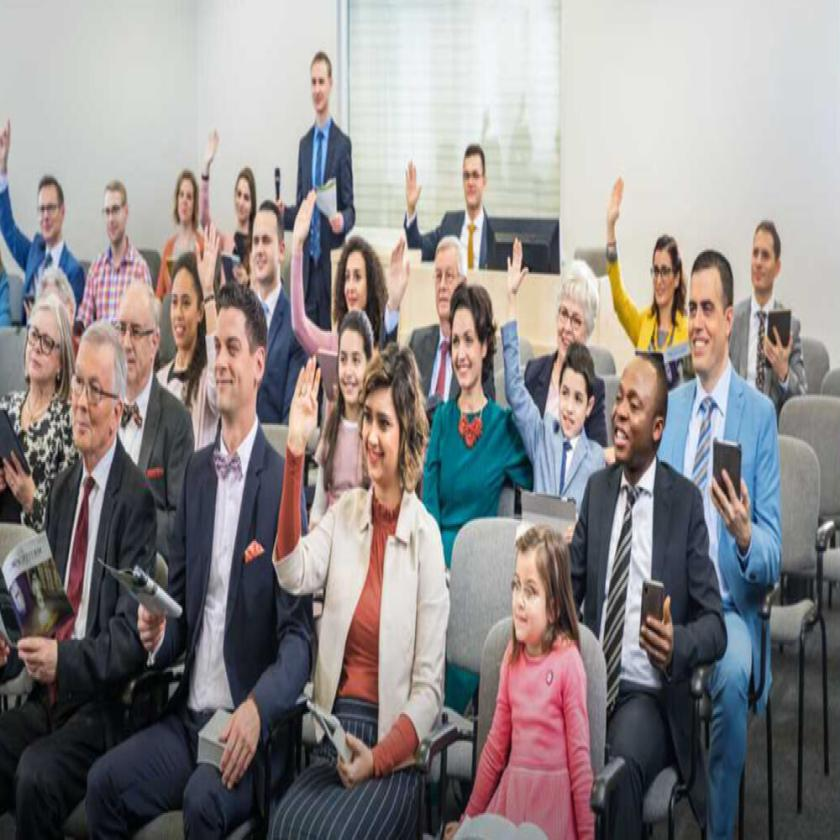Sin_casco: (365, 343, 418, 514), (211, 285, 267, 434), (70, 322, 128, 463), (613, 359, 670, 479), (687, 245, 733, 392), (509, 529, 558, 655), (448, 286, 497, 394), (116, 282, 160, 391), (23, 290, 70, 392), (167, 252, 206, 371), (554, 254, 596, 352), (334, 310, 372, 418), (428, 233, 465, 323), (560, 346, 596, 437), (747, 220, 784, 304), (647, 234, 682, 322), (250, 200, 284, 287), (338, 227, 369, 312), (460, 142, 486, 220), (308, 50, 336, 122), (103, 180, 128, 256), (36, 175, 63, 244), (173, 167, 200, 234), (233, 167, 252, 228)
